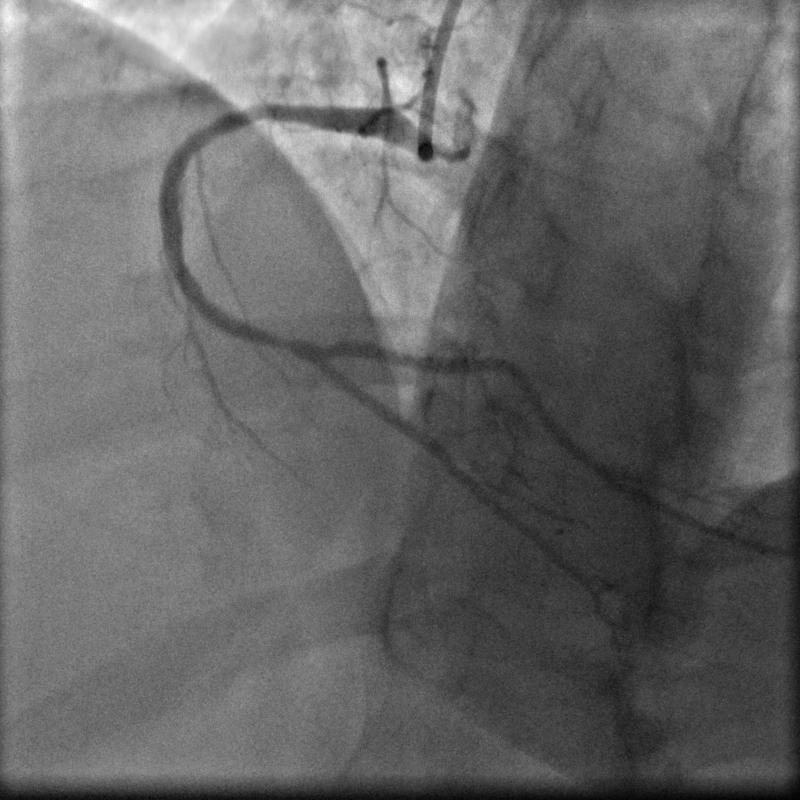Stenosis: (266, 325, 309, 361)
